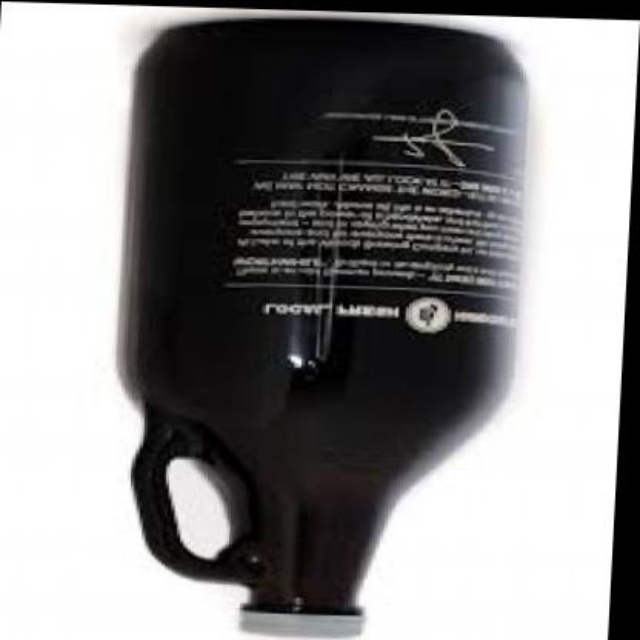trash: (122, 18, 525, 618), (166, 457, 232, 557)
